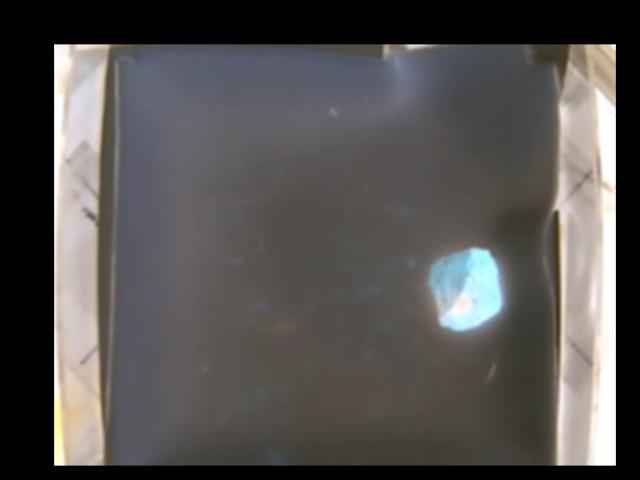Brisk: (429, 247, 500, 326)
